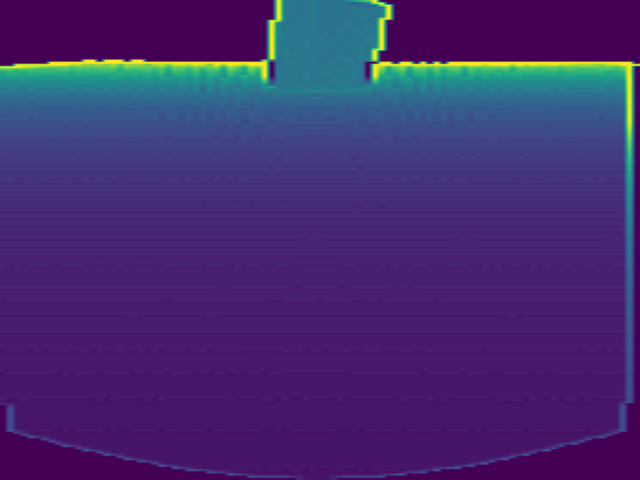cylinder: (265, 2, 392, 89)
